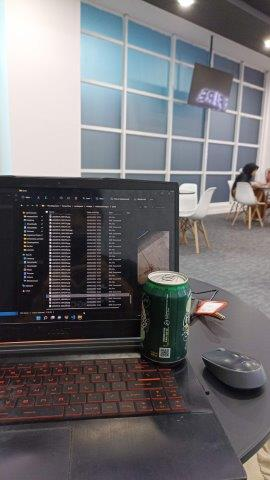kaleng: (141, 270, 191, 364)
